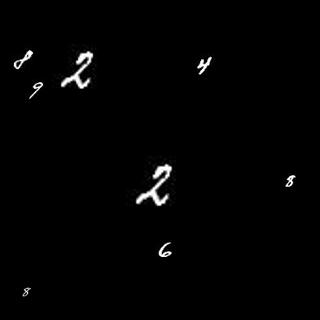eight: (11, 46, 35, 73), (283, 171, 301, 187), (20, 283, 35, 300)
four: (194, 55, 214, 79)
nine: (29, 82, 45, 102)
six: (158, 239, 175, 259)
two: (136, 159, 176, 213), (61, 51, 98, 91)
